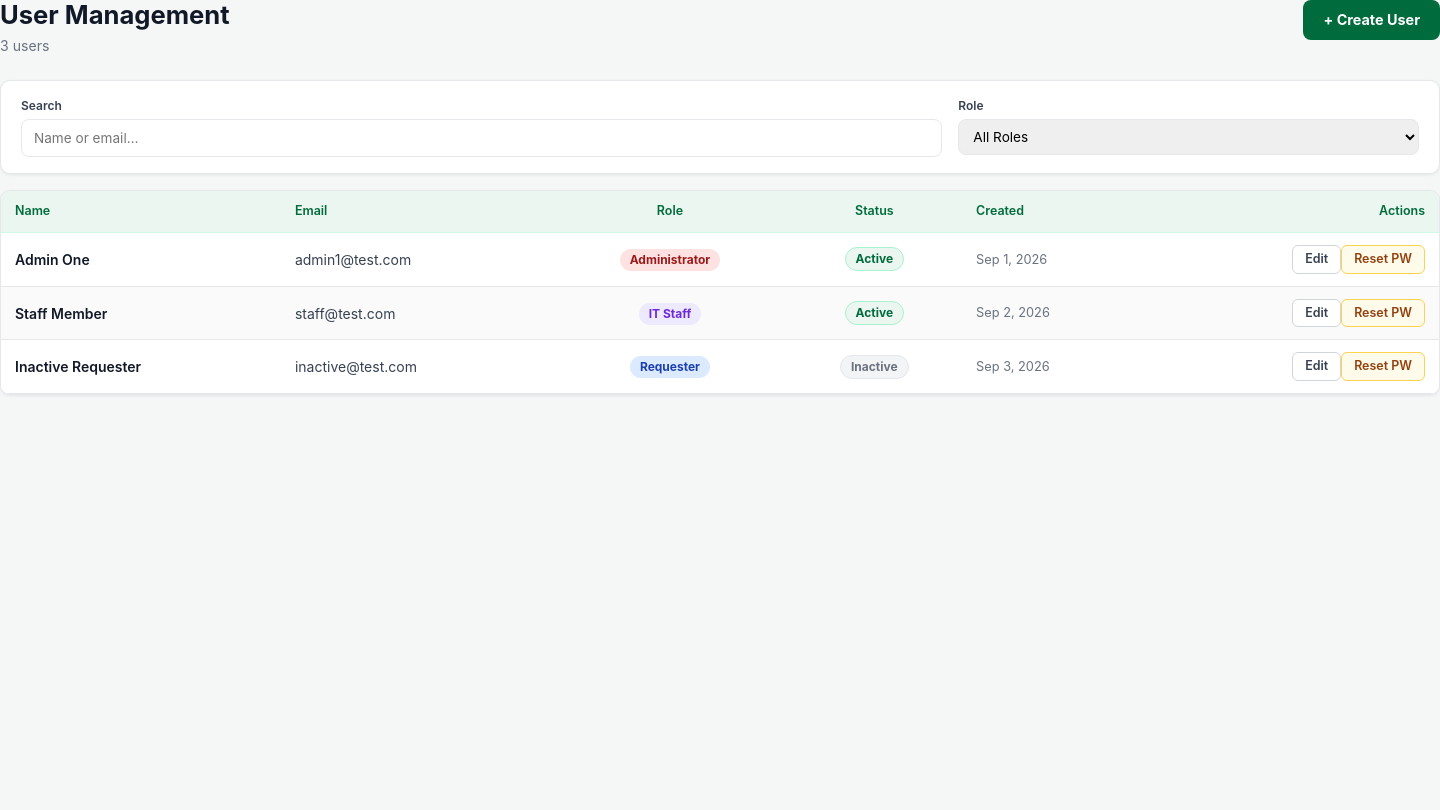
Test: UI-14 — UserManagement disables Active toggle when editing own account › opens Edit modal for own account (id=1)
Click the button with id "btn-edit-user-1" at (1317, 259), box [1292, 245, 1341, 274]
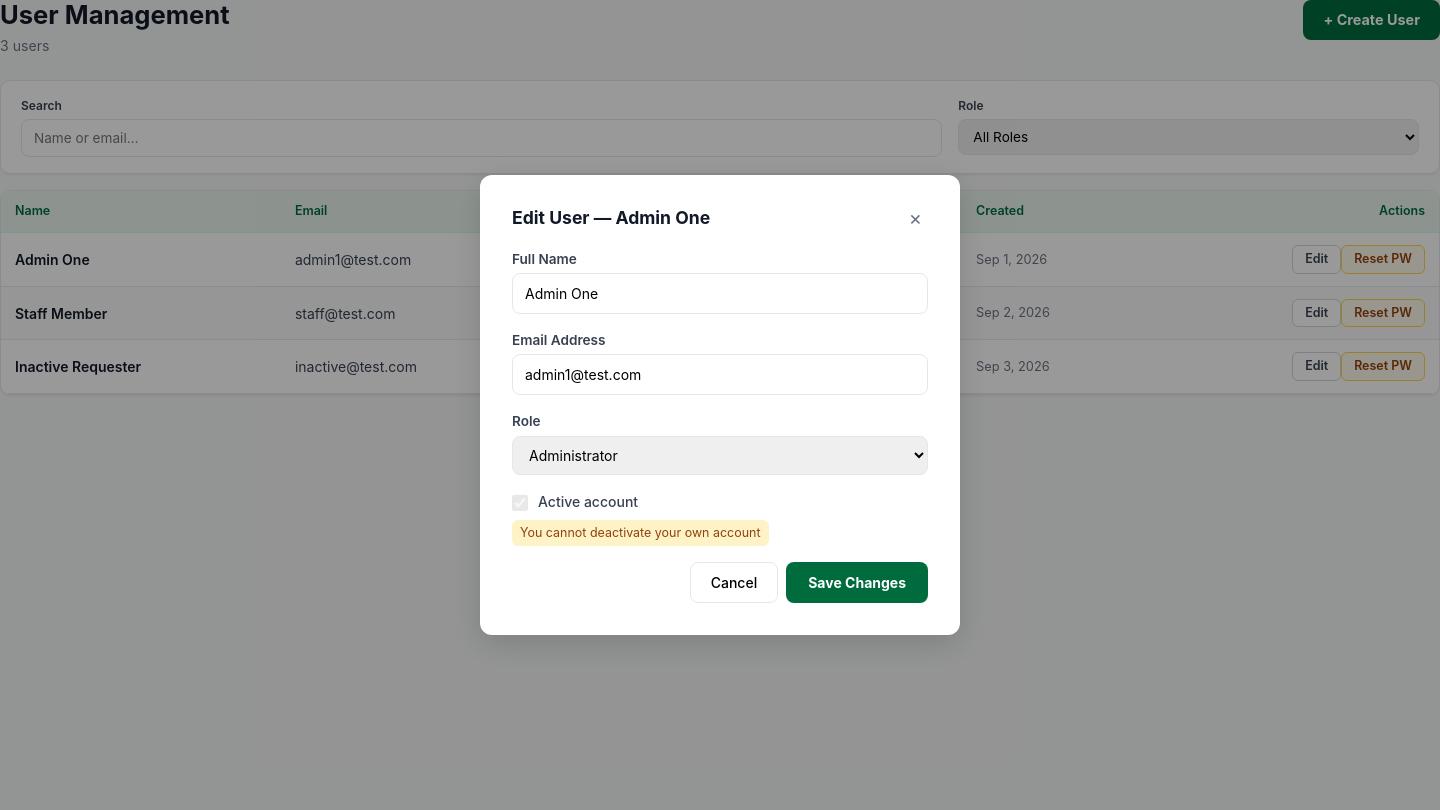
Now the heading "Edit User — Admin One" is shown, box [512, 207, 710, 228]
